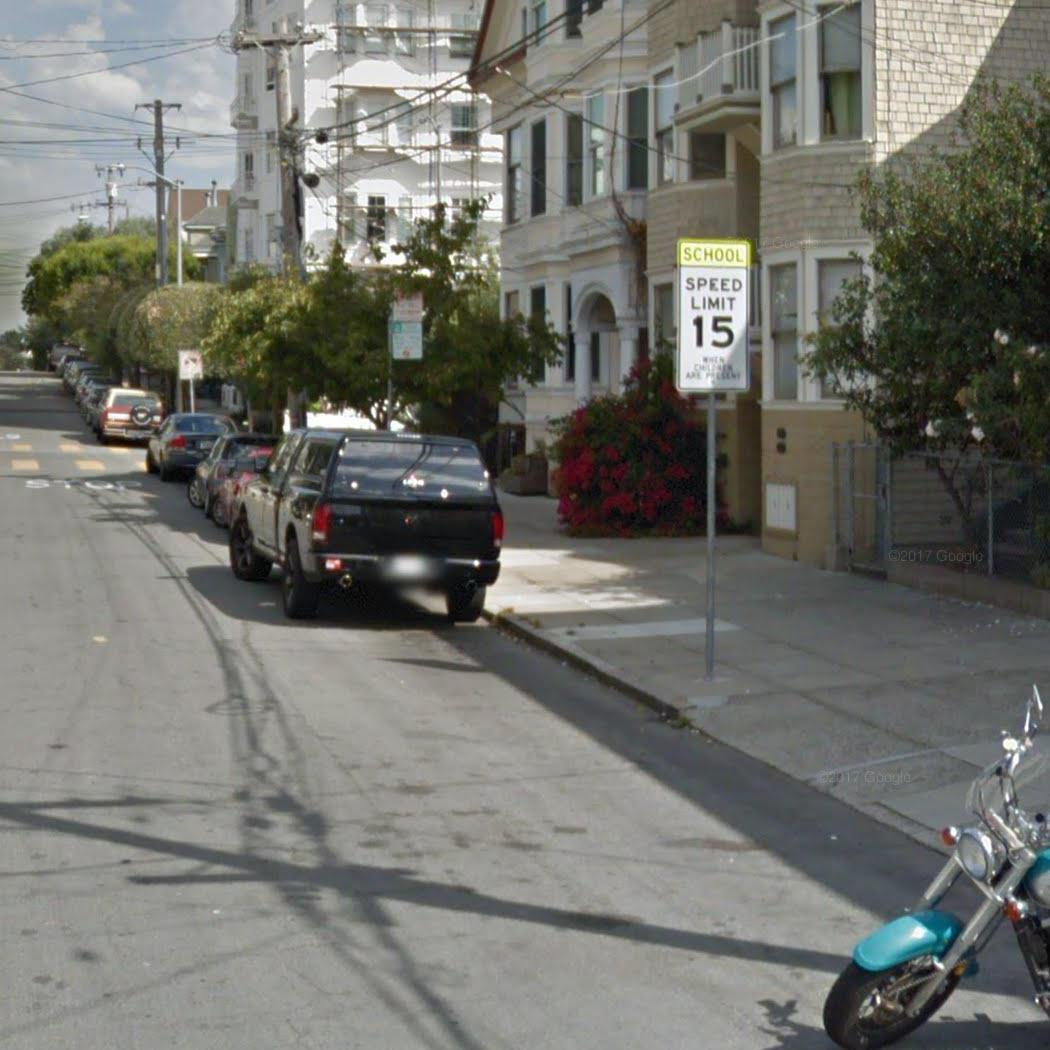2 Hour Parking: (387, 320, 426, 362)
No Parking: (388, 283, 427, 324)
